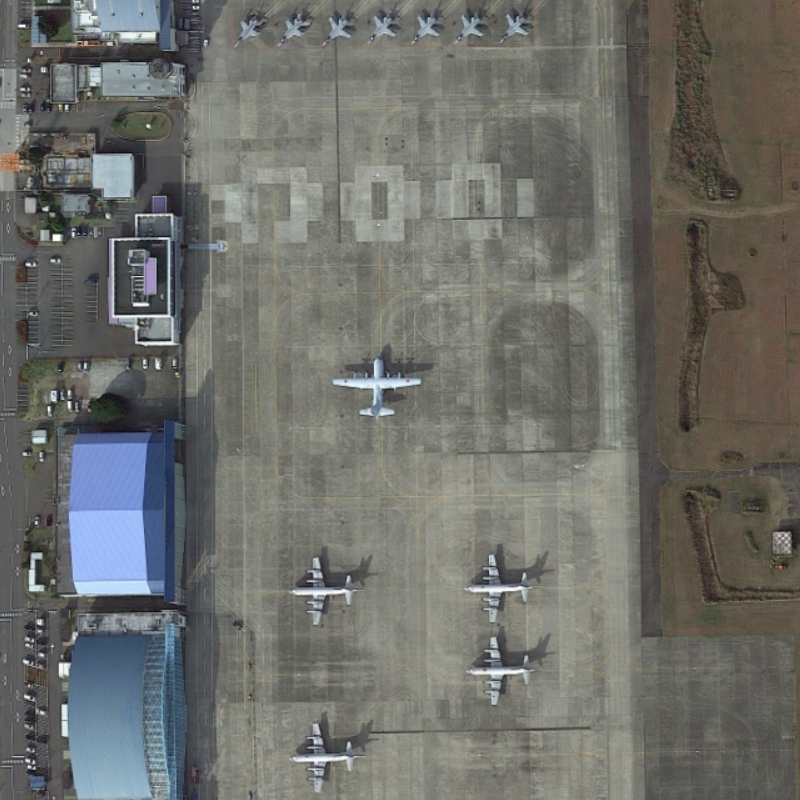A16: (496, 7, 538, 46), (230, 11, 270, 50), (450, 8, 490, 47), (275, 10, 313, 51), (407, 8, 445, 49), (363, 8, 402, 47), (320, 9, 357, 49)
A2: (329, 346, 428, 422)
A9: (463, 543, 544, 630), (287, 714, 370, 795), (285, 550, 368, 628), (463, 631, 539, 709)
